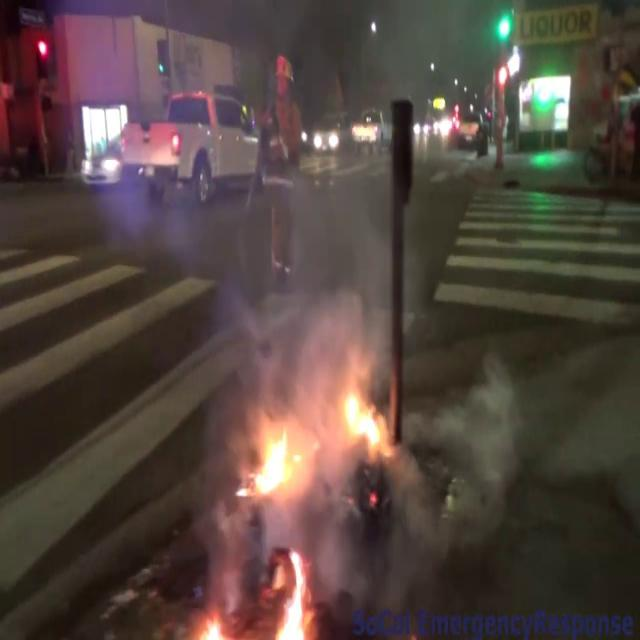Fire: (244, 370, 391, 508), (246, 416, 310, 504), (336, 376, 392, 460), (270, 547, 320, 638)
Smoke: (246, 140, 434, 378)
